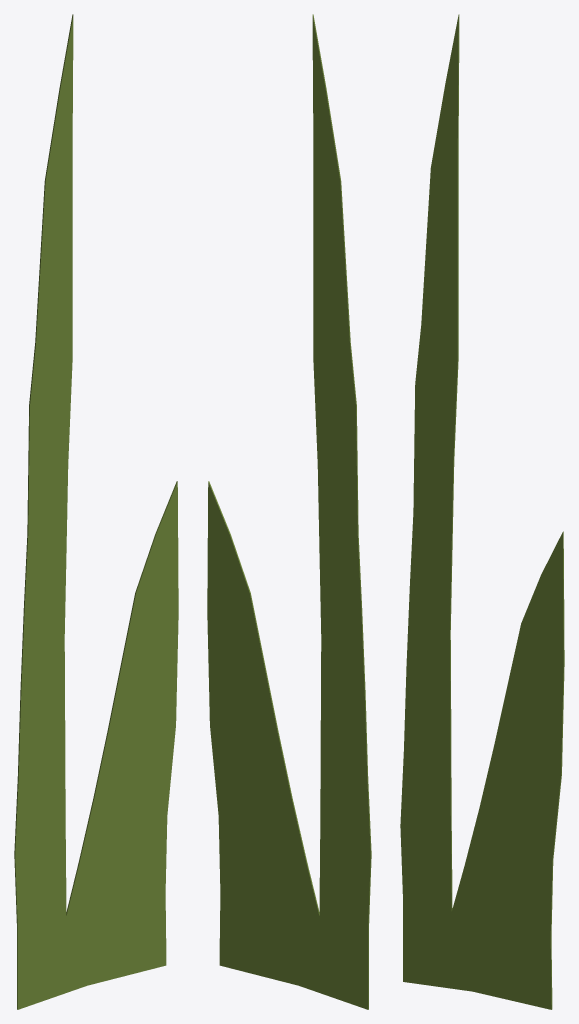
Rendered from tower.fbx_grass_006.fbx.
3 renders of one model, left to right at view 1: azimuth 30°, elevation 25°; view 2: azimuth 150°, elevation 25°; view 3: azimuth 330°, elevation 25°, orthographic.
Parts seen in each view (by area): view 1: Vert.009; view 2: Vert.009; view 3: Vert.009.
Boxes of the visible parts, bbox=[...] form: Vert.009: bbox=[14, 14, 178, 1009]; Vert.009: bbox=[207, 14, 371, 1009]; Vert.009: bbox=[400, 14, 564, 1009].
Size of the model in its own units: 109 by 628 by 1.
